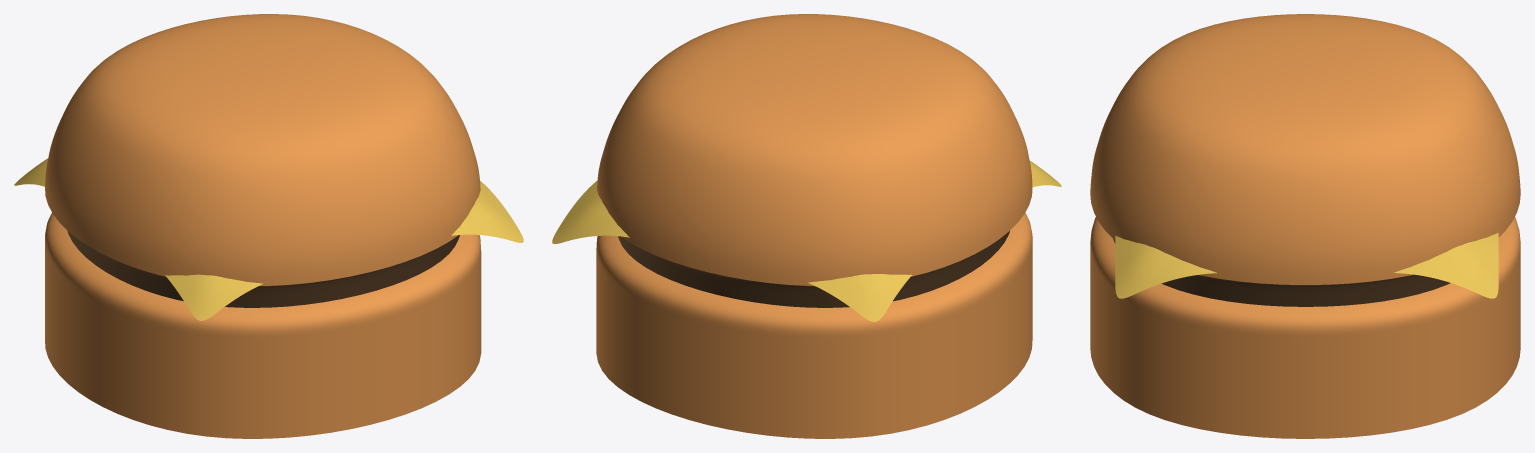
The model's file is hamburger.glb.
3 views of the same model, side by side, from view 1: azimuth 30°, elevation 25°; view 2: azimuth 150°, elevation 25°; view 3: azimuth 270°, elevation 25° (orthographic).
Visible parts, largest first — view 1: baked; view 2: baked; view 3: baked.
Boxes of the visible parts, <box> form: baked: <box>14,14,523,438</box>; baked: <box>552,14,1061,438</box>; baked: <box>1090,14,1520,438</box>.
Size of the model in its own units: 1.83 by 1.35 by 1.83.
